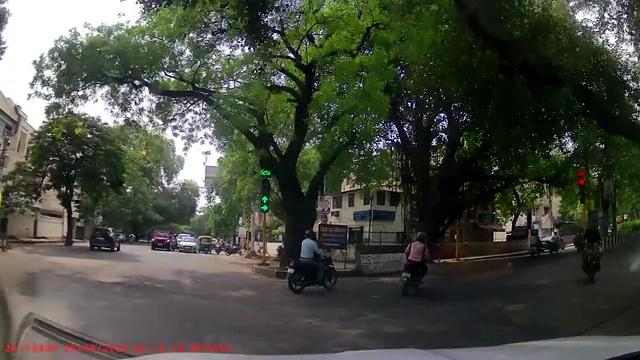motorcycle_with_helmet: (286, 229, 337, 295), (398, 230, 429, 296)
